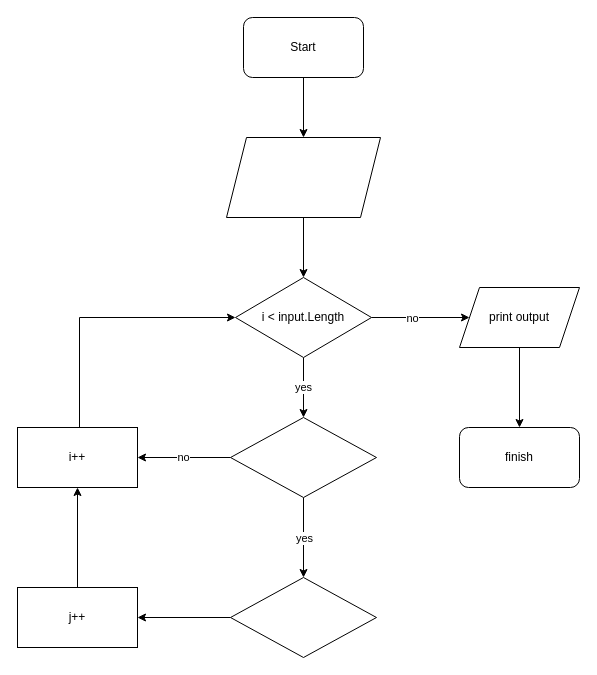
The diagram is 597 pixels wide and 675 high, and some of its shapes have lost their labels. Here are the shapes that lost their labels. From the top down, the box of each, then its label:
(226, 136, 380, 218): string[] input string[] output int i = 0 int j = 0 int z = 3
(230, 416, 376, 498): input[i].Lenght <= n
(230, 576, 376, 658): output[j] = input[i]
